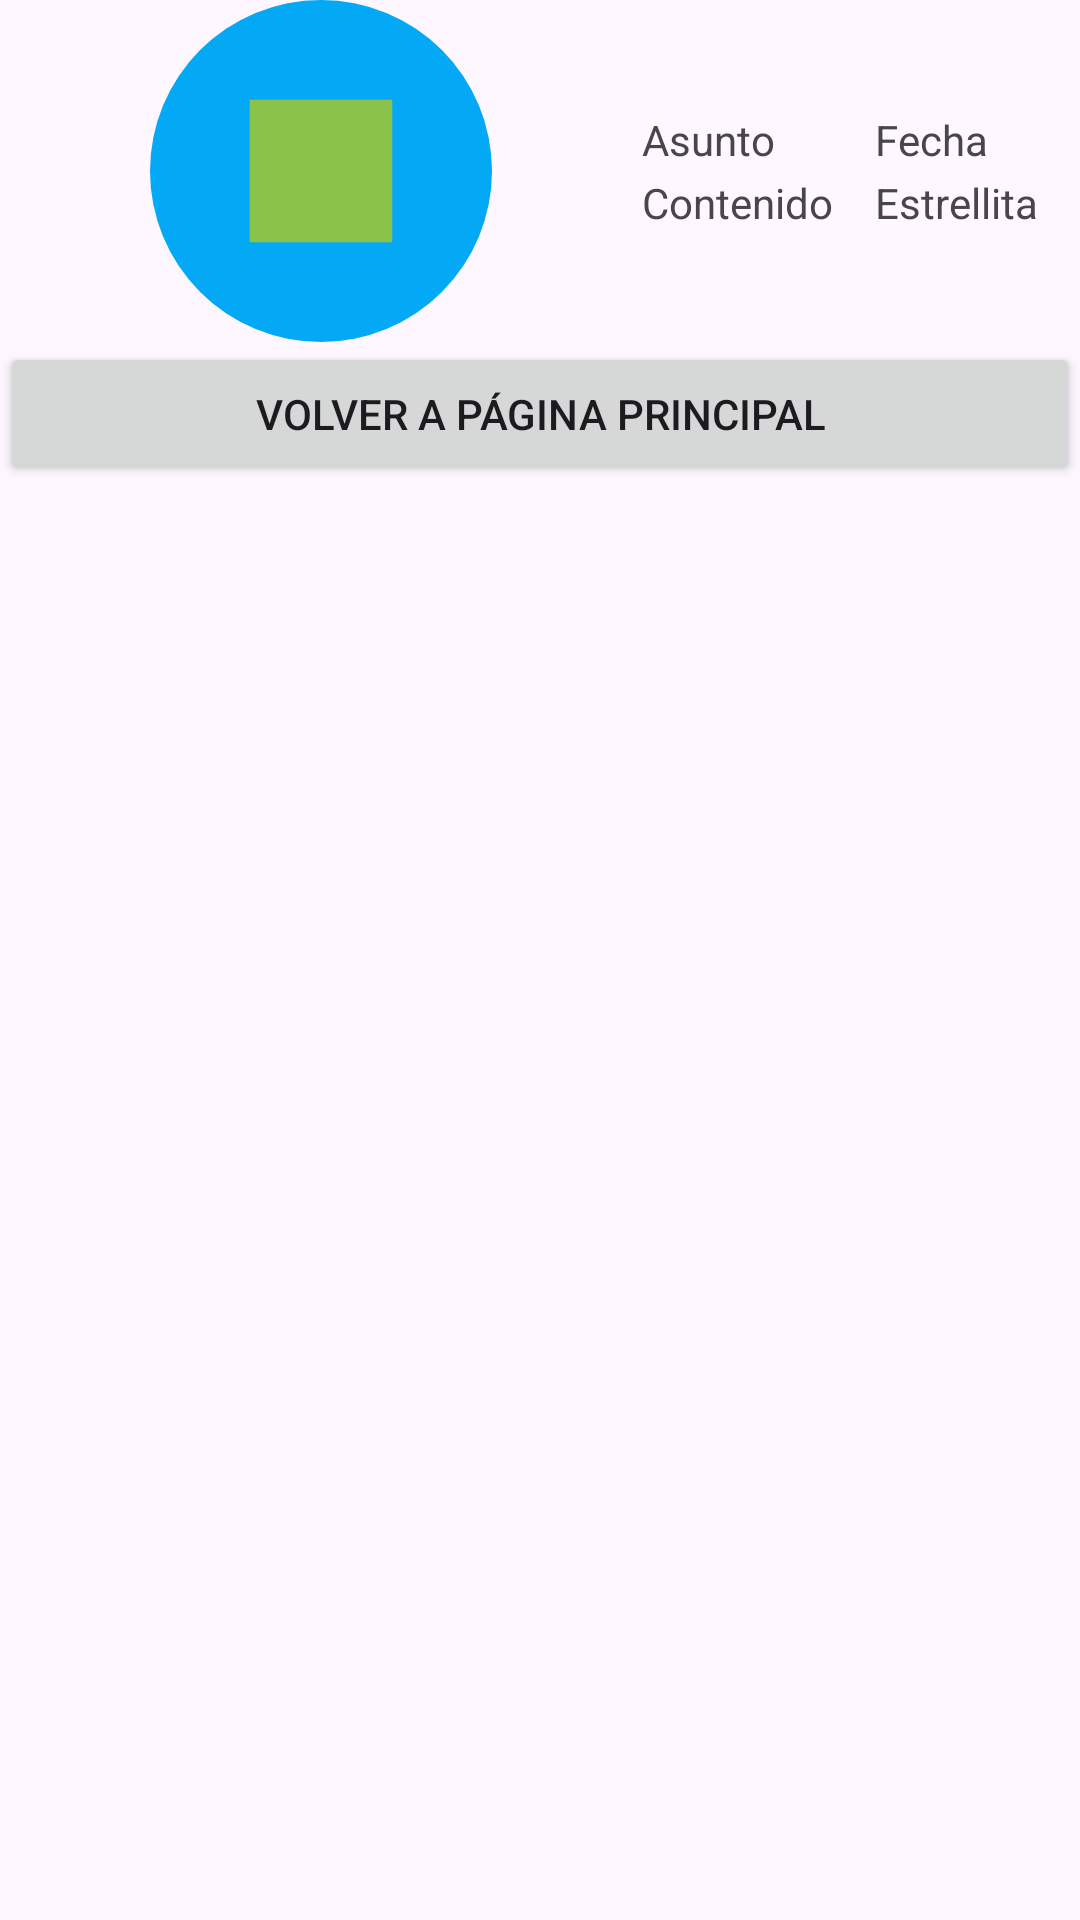

Screen size 1080*1920. Icon name, then its center in pixels as point (x, y):
Circulo color cian con cuadrado verde: point (321, 171)
